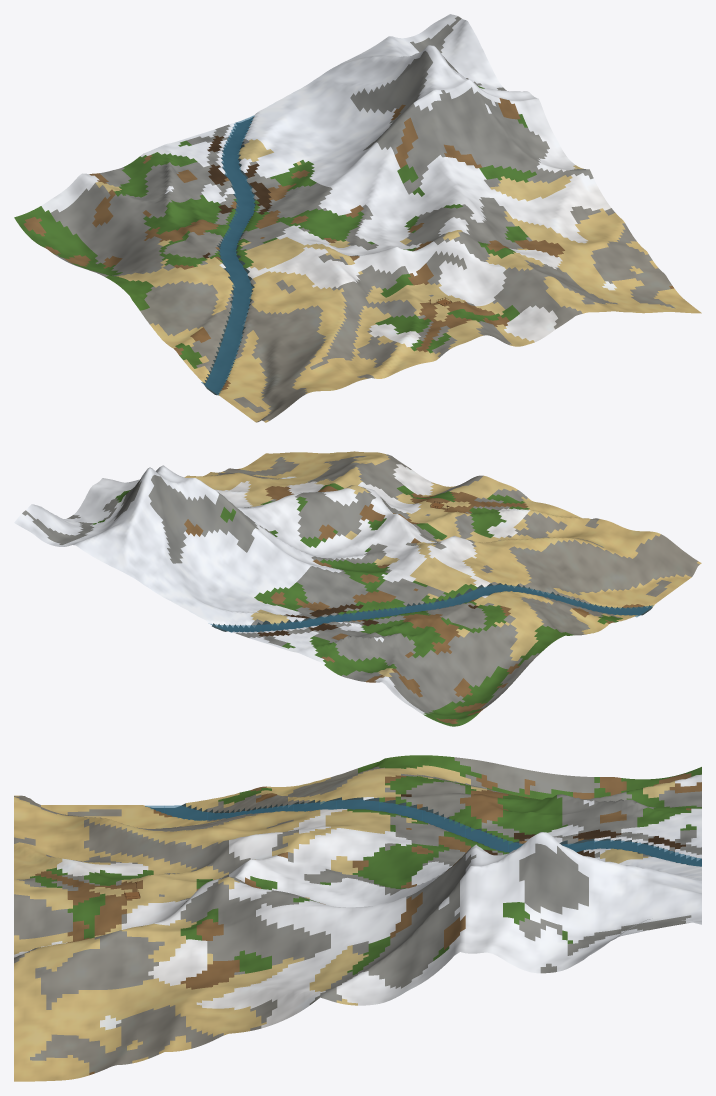
Rendered from chunk_6_3.glb.
3 views of the same model, one above another, from view 1: azimuth 30°, elevation 25°; view 2: azimuth 150°, elevation 25°; view 3: azimuth 270°, elevation 25° (orthographic). The views are drawn at different scales.
Parts seen in each view (by area): view 1: Surface_Gravel, Surface_Snow, Surface_Sand, Surface_Grass, Surface_Dirt, Surface_Water, Water, Surface_Mud; view 2: Surface_Gravel, Surface_Snow, Surface_Sand, Surface_Grass, Surface_Dirt, Surface_Water, Water, Surface_Mud; view 3: Surface_Gravel, Surface_Snow, Surface_Sand, Surface_Grass, Surface_Dirt, Surface_Water, Water, Surface_Mud.
Part boxes in pixels (left/top/right/bottom): Surface_Gravel: left=51, top=16, right=675, bottom=422; Surface_Snow: left=41, top=14, right=616, bottom=347; Surface_Sand: left=95, top=139, right=701, bottom=422; Surface_Grass: left=14, top=85, right=536, bottom=368; Surface_Dirt: left=23, top=98, right=673, bottom=390; Surface_Water: left=203, top=117, right=256, bottom=395; Water: left=201, top=115, right=255, bottom=395; Surface_Mud: left=202, top=135, right=272, bottom=258; Surface_Gravel: left=22, top=454, right=699, bottom=713; Surface_Snow: left=14, top=464, right=530, bottom=714; Surface_Sand: left=184, top=451, right=701, bottom=676; Surface_Grass: left=92, top=483, right=622, bottom=726; Surface_Dirt: left=184, top=469, right=643, bottom=723; Surface_Water: left=212, top=583, right=652, bottom=631; Water: left=210, top=584, right=653, bottom=632; Surface_Mud: left=257, top=604, right=478, bottom=636; Surface_Gravel: left=14, top=757, right=701, bottom=1073; Surface_Snow: left=14, top=774, right=701, bottom=1030; Surface_Sand: left=14, top=765, right=674, bottom=1081; Surface_Grass: left=30, top=755, right=701, bottom=975; Surface_Dirt: left=35, top=773, right=701, bottom=1075; Surface_Water: left=149, top=797, right=701, bottom=866; Water: left=145, top=799, right=701, bottom=866; Surface_Mud: left=401, top=794, right=685, bottom=857.
Bounding box in the file's own units: 256 × 88.11 × 256.
